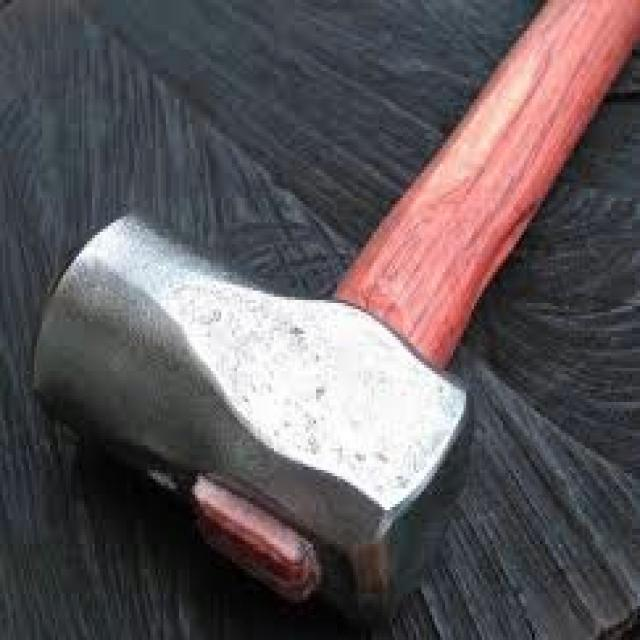hammer: (29, 0, 640, 634)
